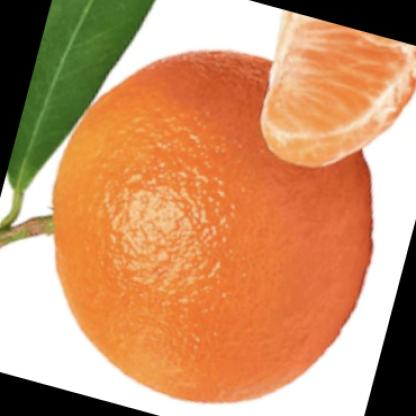fresh: (52, 51, 373, 401)
